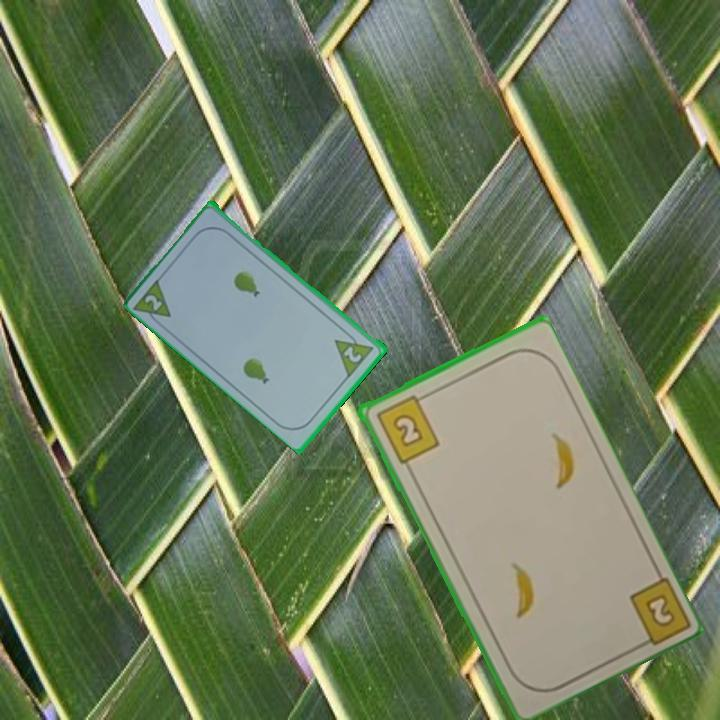2b: (372, 390, 442, 466), (625, 572, 690, 653)
2p: (331, 326, 378, 379), (141, 291, 166, 314)
